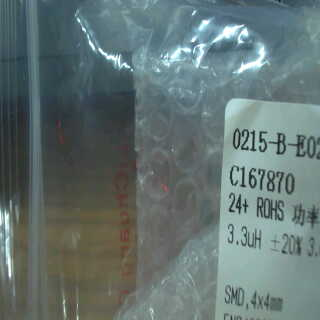3.3uH: (220, 222, 265, 254)
